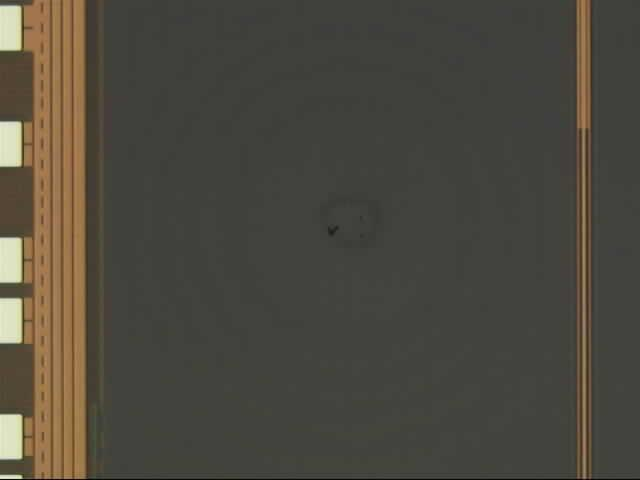PIQ PARTICLE: (322, 210, 373, 244)
